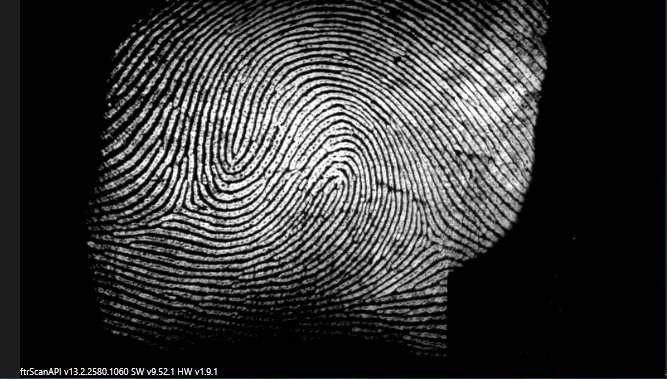deltas: (152, 171, 207, 224), (399, 211, 445, 260)
nucleo: (237, 104, 353, 203)
